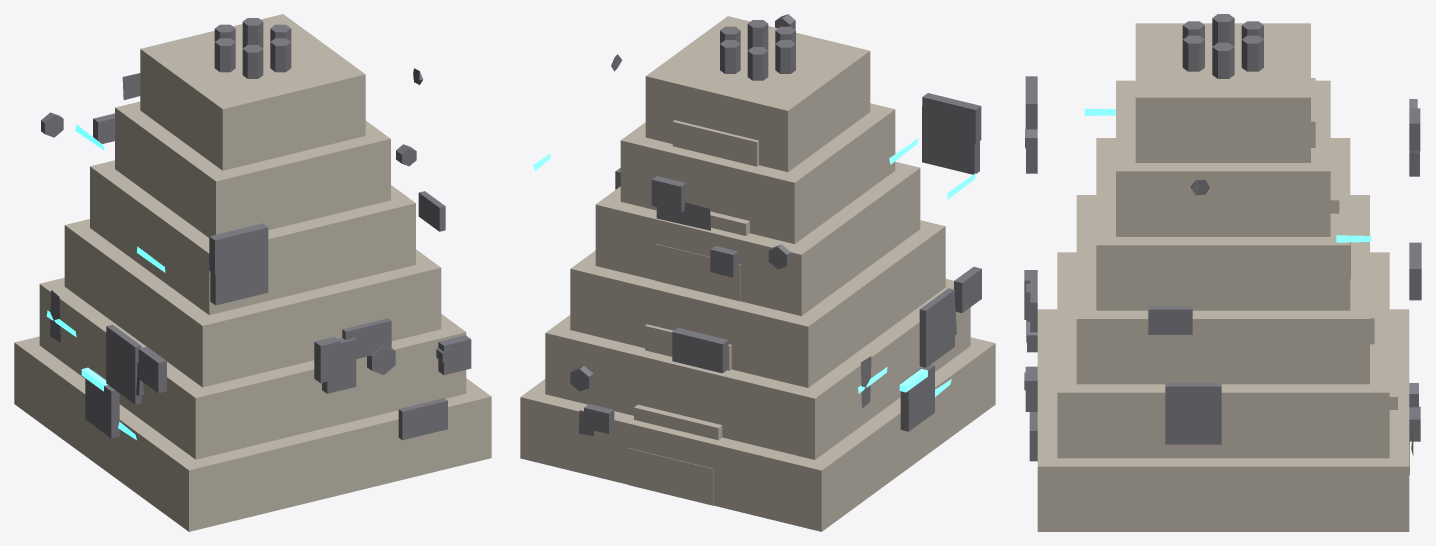
Rendered from alien_ziggurat.glb.
The picture shows the model from 3 angles, left to right: view 1: azimuth 30°, elevation 25°; view 2: azimuth 150°, elevation 25°; view 3: azimuth 270°, elevation 25°; orthographic projection. The views are drawn at different scales.
Parts seen in each view (by area): view 1: alien_ziggurat; view 2: alien_ziggurat; view 3: alien_ziggurat.
Part boxes in pixels (x1,y1,x2,y2): alien_ziggurat: (14,14,491,531); alien_ziggurat: (520,14,995,531); alien_ziggurat: (1024,14,1421,531).
Bounding box in the file's own units: 6.31 × 7.5 × 6.42.
